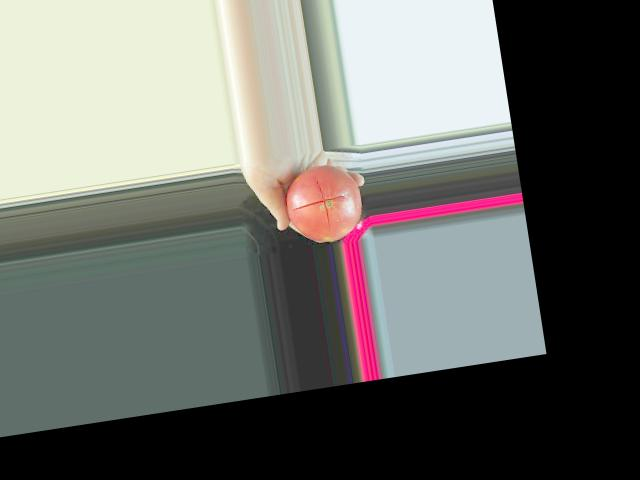tomato: (281, 159, 367, 246)
